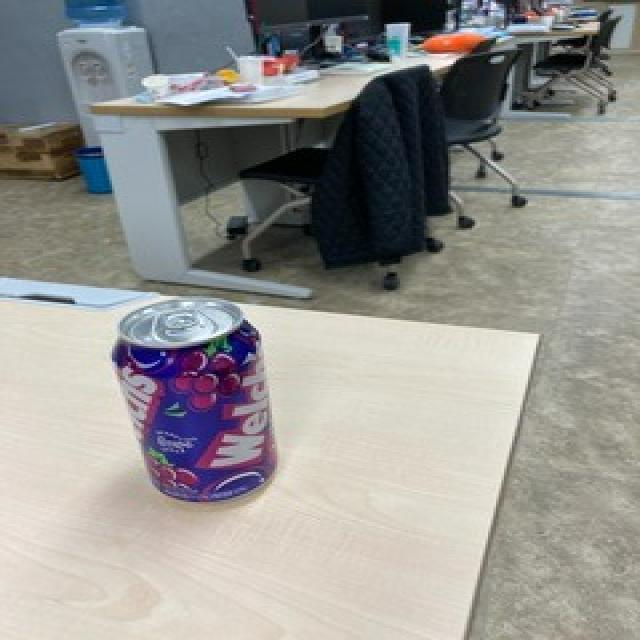can: (107, 290, 285, 510)
